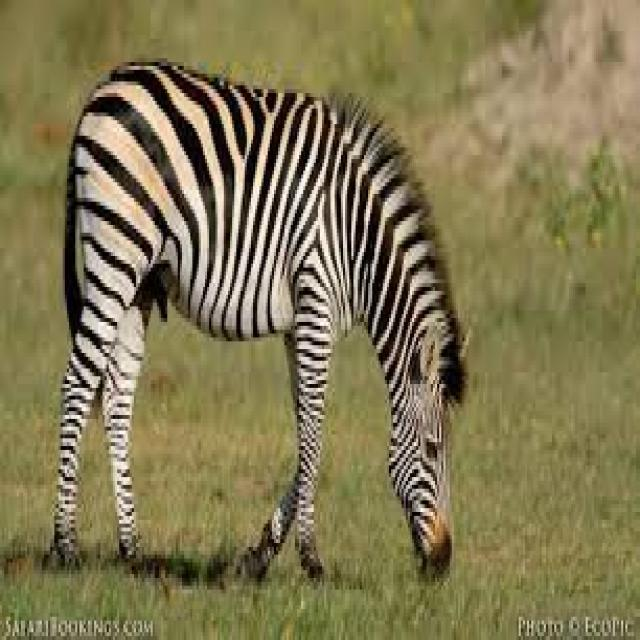Zebra: (44, 42, 463, 591)
